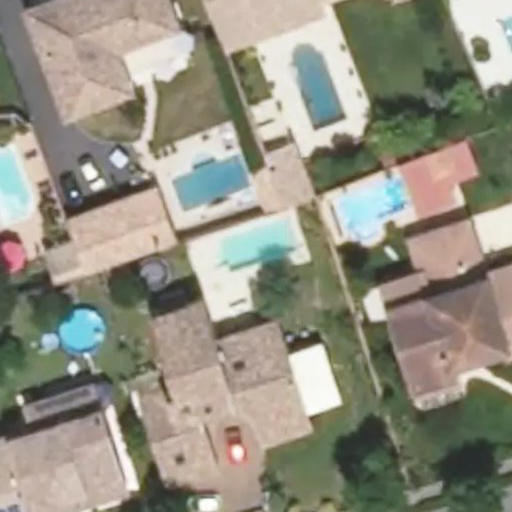pool: (215, 236, 294, 250)
